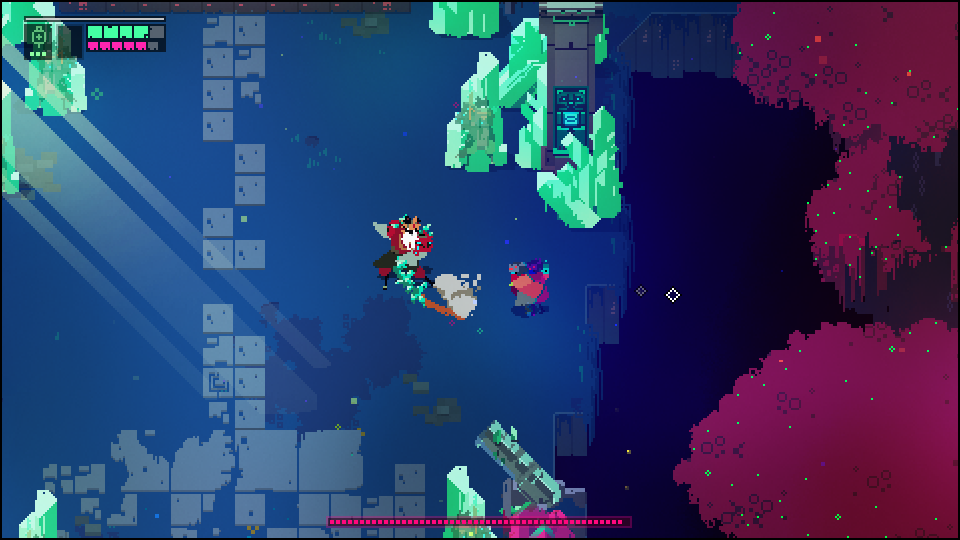hanged_man: (364, 210, 450, 313)
player: (506, 257, 549, 320)
